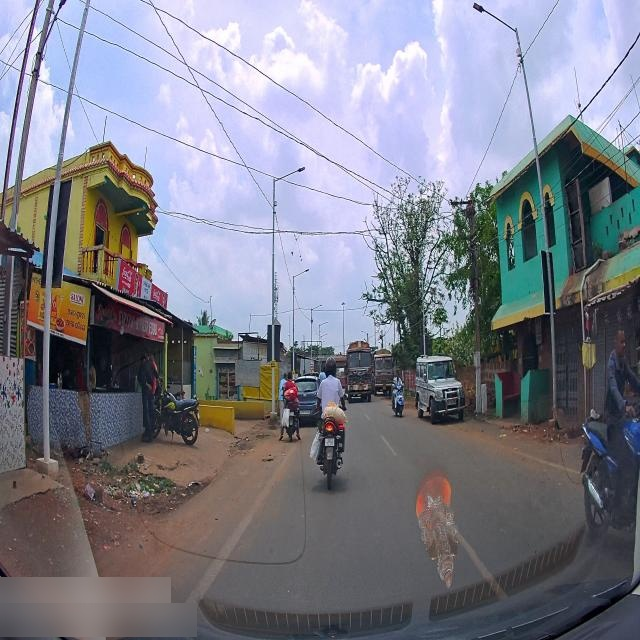pothole: (254, 426, 273, 443)
